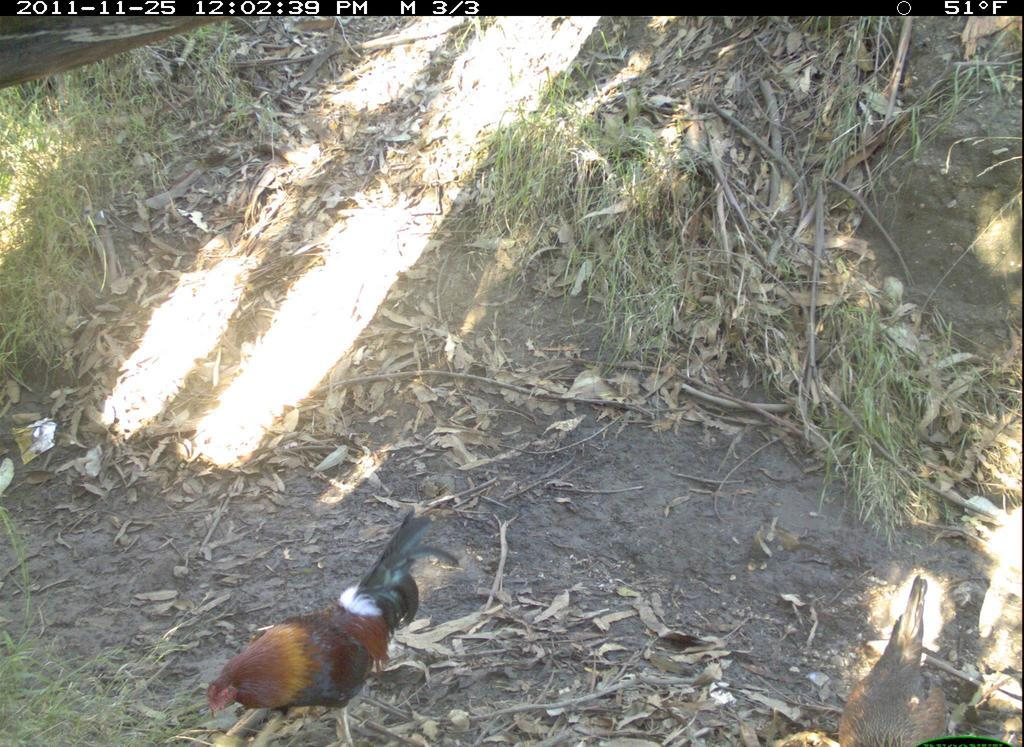bird: (203, 486, 450, 745)
